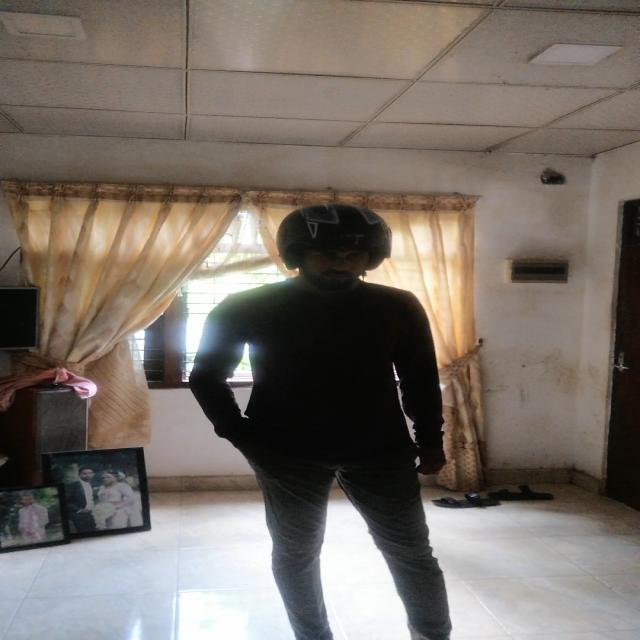Helmet_Wearer: (240, 206, 396, 289)
Person: (203, 201, 476, 640)
